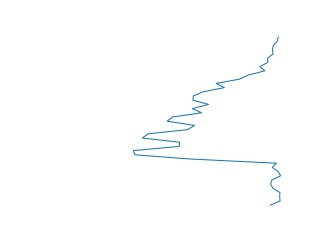proximalDeepseaFan: (129, 34, 287, 210)
